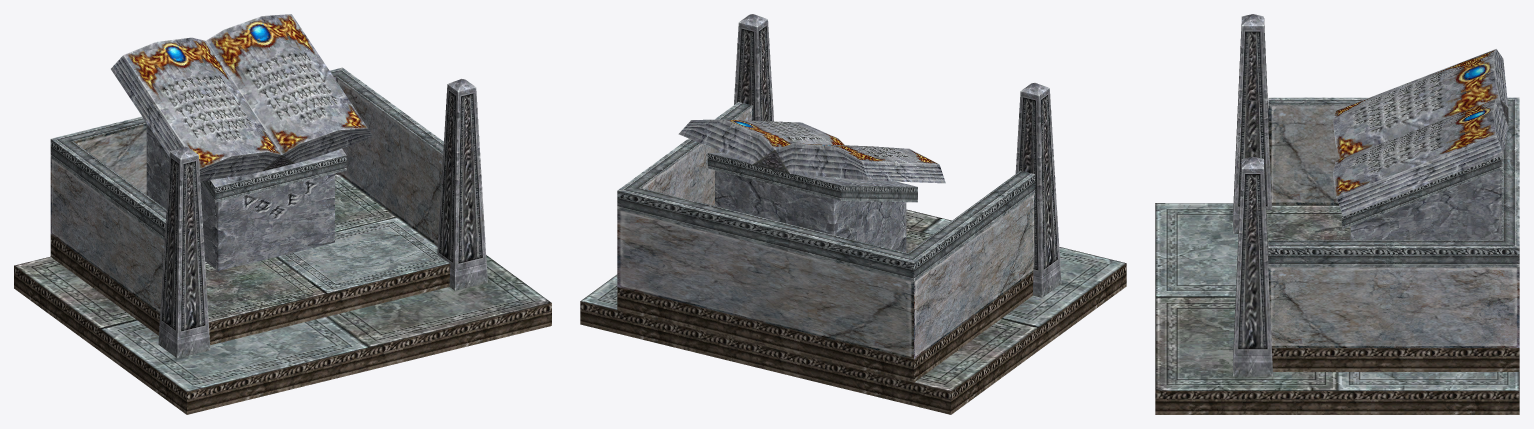
The model's file is cs_table.glb.
3 views of the same model, side by side, from view 1: azimuth 30°, elevation 25°; view 2: azimuth 150°, elevation 25°; view 3: azimuth 270°, elevation 25° (orthographic). The views are drawn at different scales.
Visible parts, largest first — view 1: cs_table; view 2: cs_table; view 3: cs_table.
Boxes of the visible parts, x1,y1,x2,y2 form: cs_table: (14,14,551,414); cs_table: (580,14,1126,414); cs_table: (1155,14,1519,414).
Size of the model in its own units: 3 by 1.76 by 2.46.
Materials: 8 (8 with a texture image).
